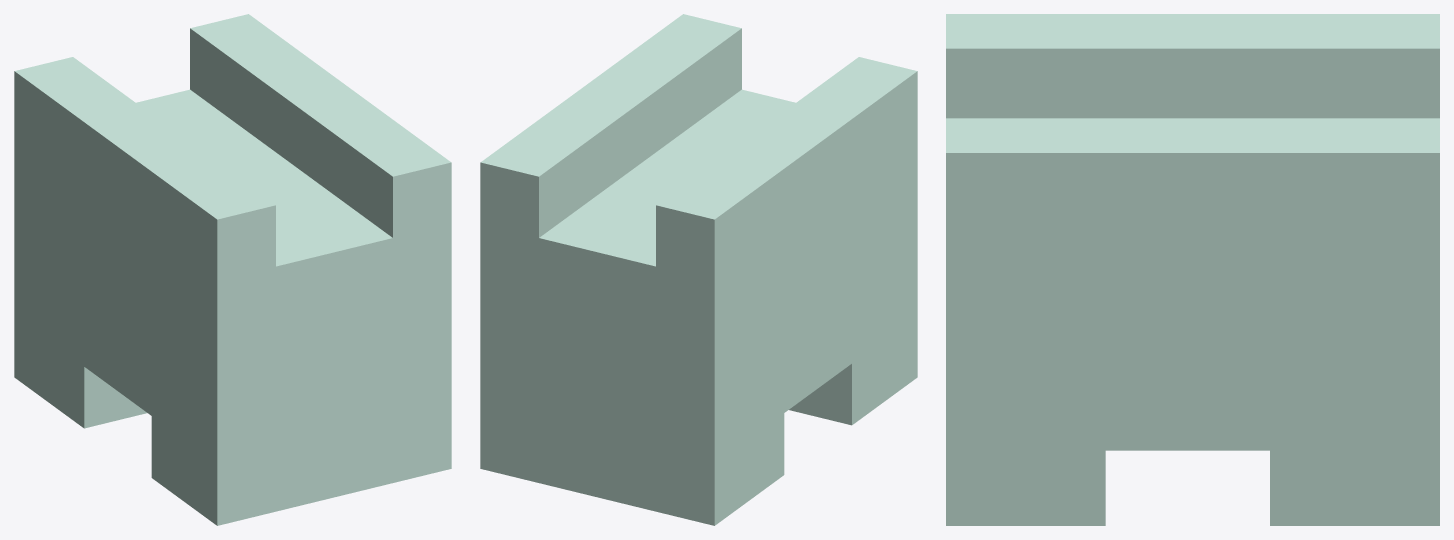
3 renders of one model, left to right at view 1: azimuth 30°, elevation 25°; view 2: azimuth 150°, elevation 25°; view 3: azimuth 270°, elevation 25°, orthographic. The views are drawn at different scales.
Parts seen in each view (by area): view 1: Renderer Node; view 2: Renderer Node; view 3: Renderer Node.
Part boxes in pixels (bbox=[...]): Renderer Node: bbox=[14, 14, 451, 525]; Renderer Node: bbox=[480, 14, 917, 525]; Renderer Node: bbox=[946, 14, 1439, 525].
Size of the model in its own units: 0.5 by 0.625 by 0.75.
